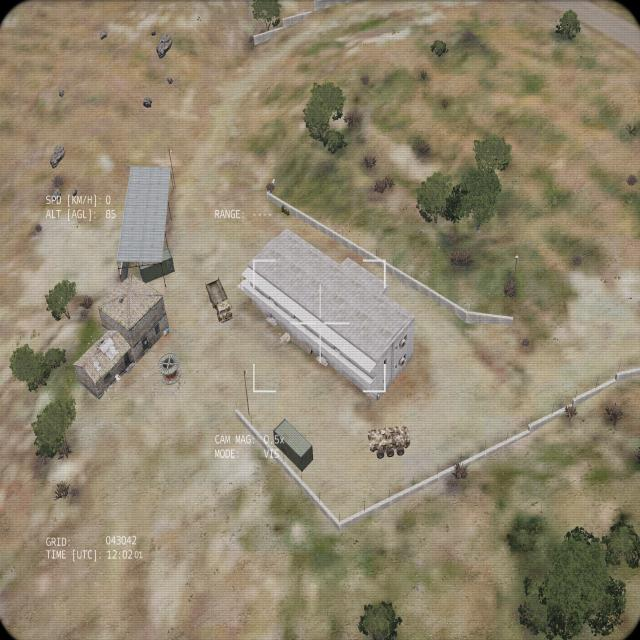apc: (366, 423, 410, 460)
truck: (204, 276, 233, 325)
